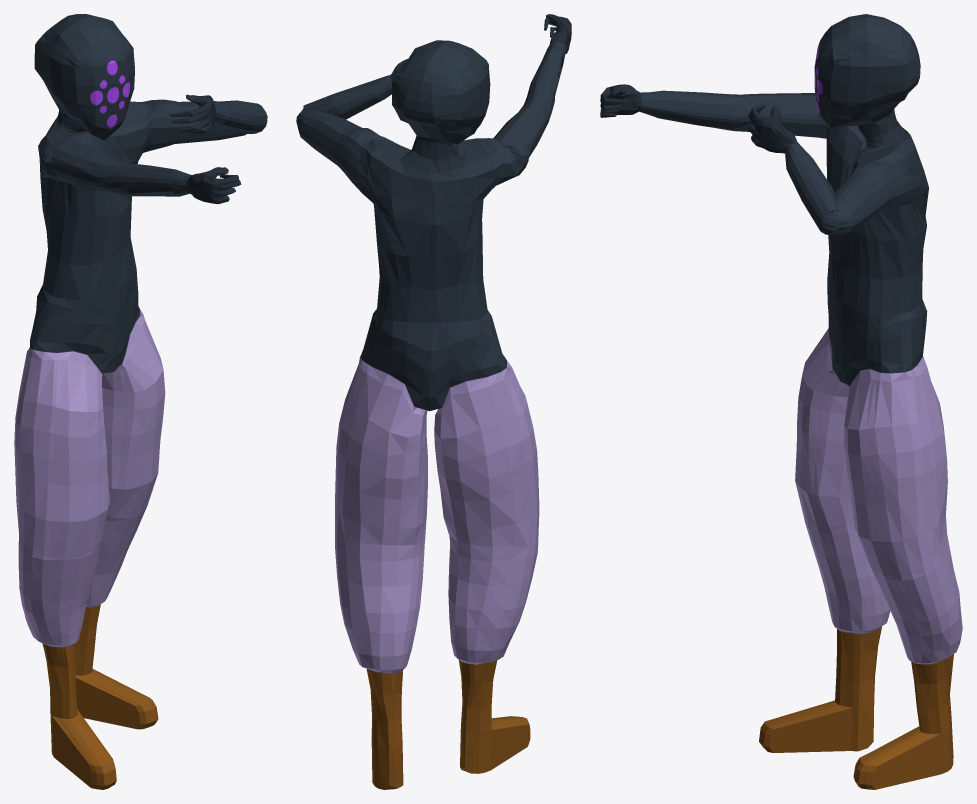
The model's file is Oracle_Attack_000017.obj.
3 views of the same model, side by side, from view 1: azimuth 30°, elevation 25°; view 2: azimuth 150°, elevation 25°; view 3: azimuth 270°, elevation 25° (orthographic). The views are drawn at different scales.
Parts seen in each view (by area): view 1: Cube; view 2: Cube; view 3: Cube.
Boxes of the visible parts, left/top/right/bottom form: Cube: left=14, top=14, right=267, bottom=789; Cube: left=296, top=14, right=571, bottom=789; Cube: left=600, top=14, right=962, bottom=789.
Bounding box in the file's own units: 1.36 × 3.94 × 1.74.
